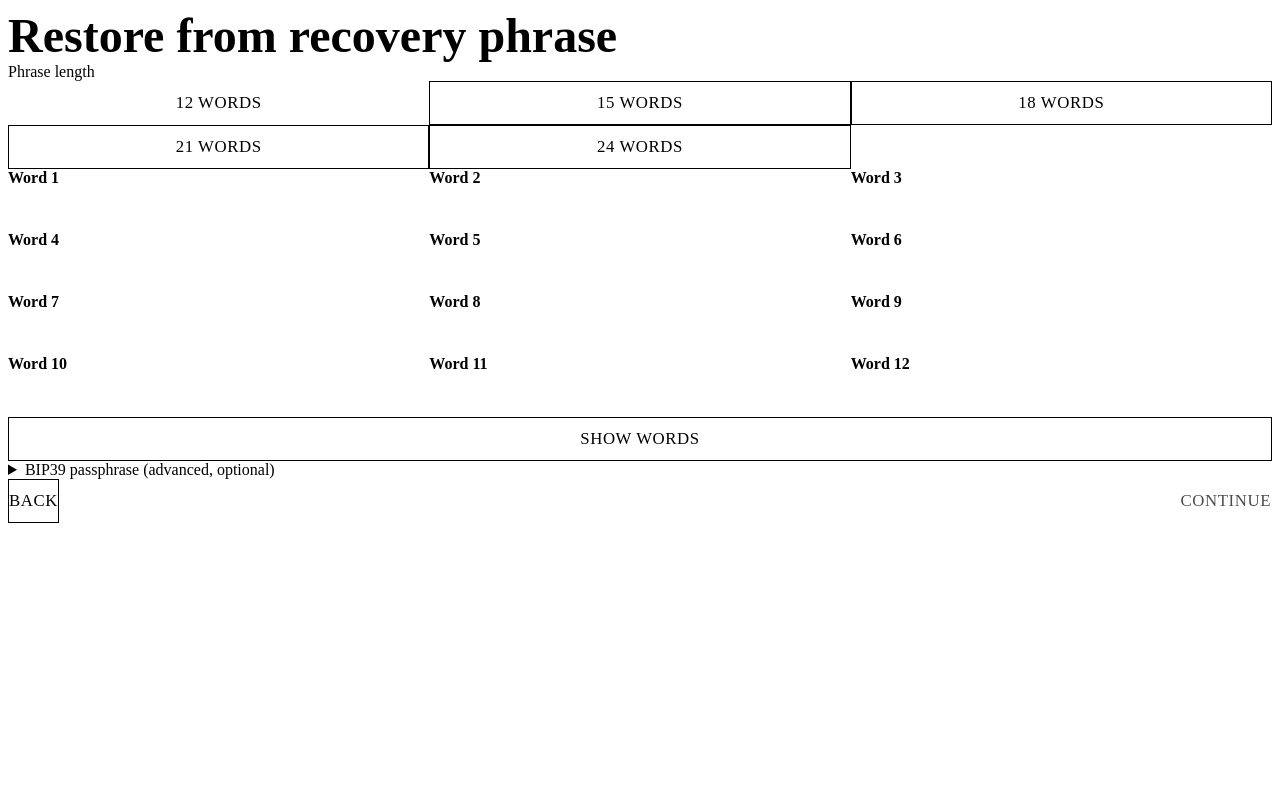
Scenario: RestoreFlow phrase paste › does not invite an incomplete password submission after a valid phrase
In the password field labelled "Word 1": (219, 209) [8,187,429,231], type "pitch food above path indicate infant ride bacon neither stable raise hobby tonight tomorrow human limb wait cigar now second trophy one canvas zone"
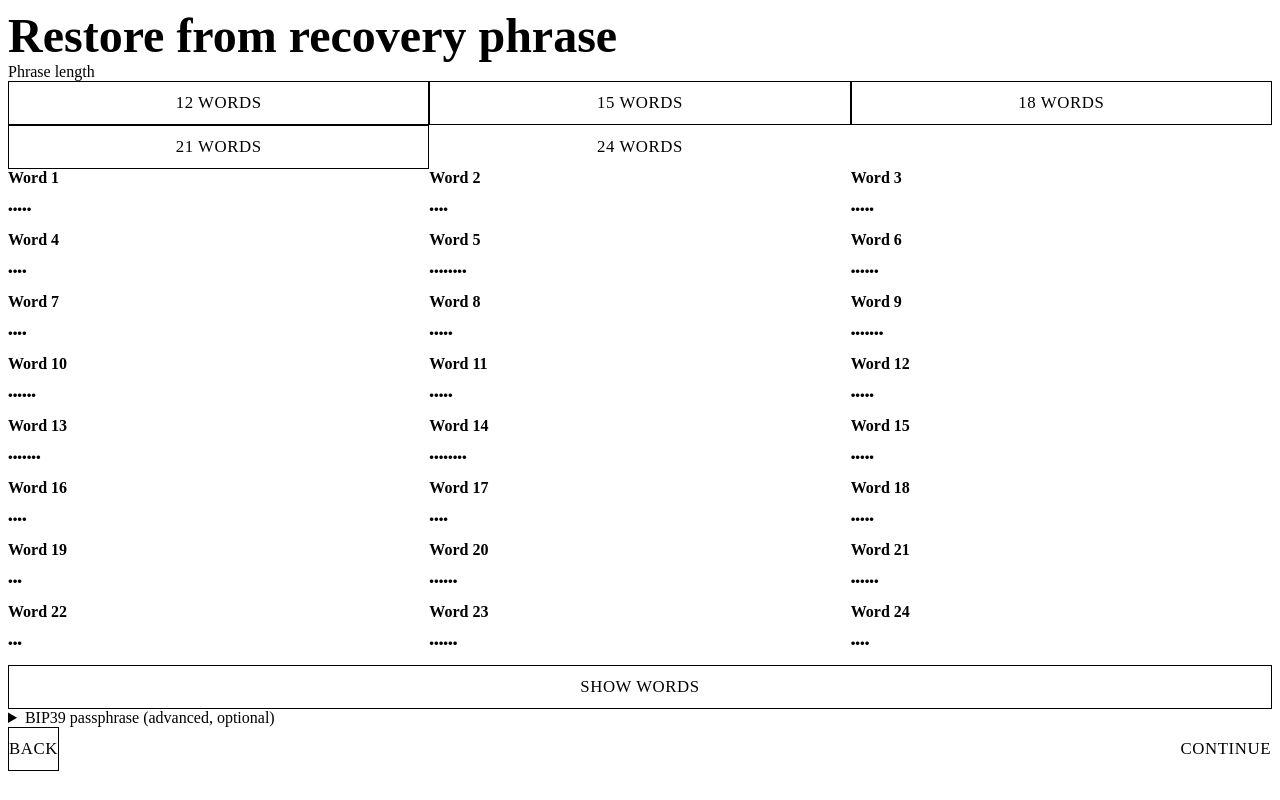
Click the button "Continue": click(1226, 749) [1180,727,1272,771]
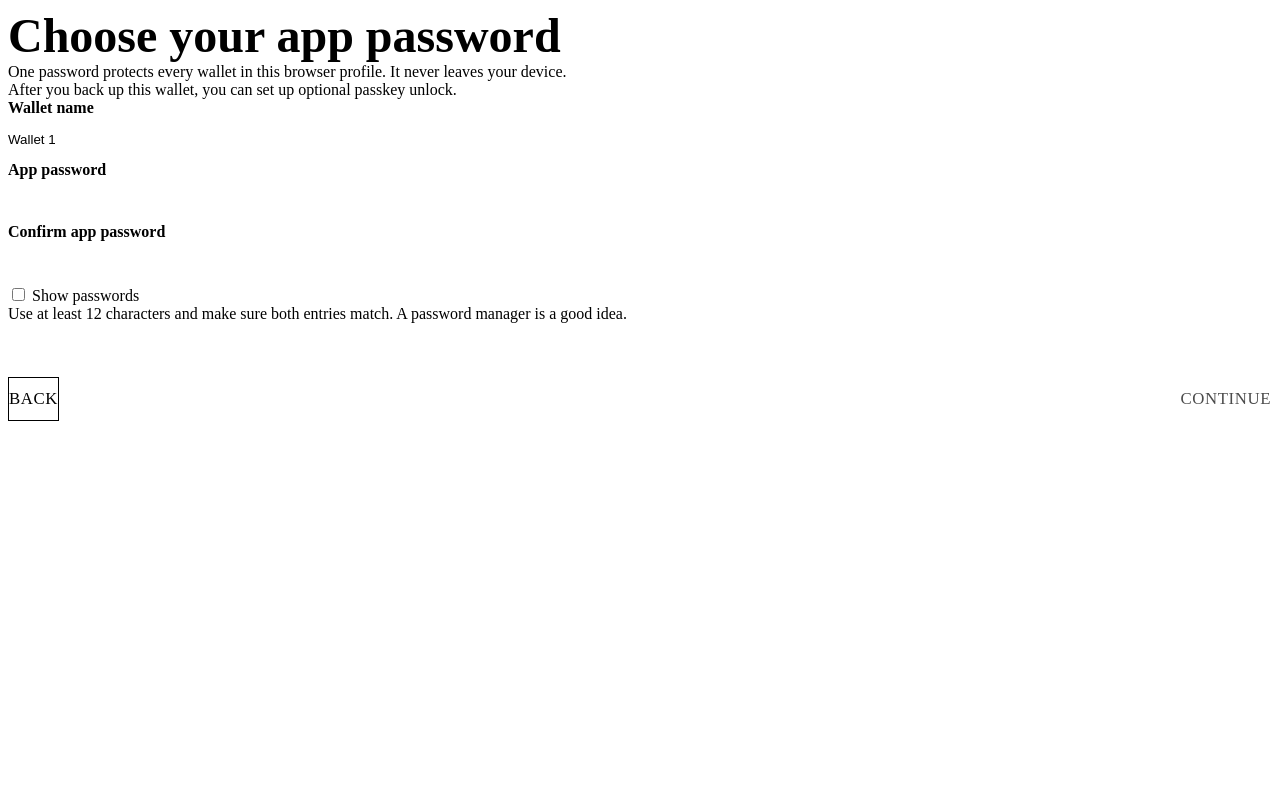
Result: the button "Continue" is disabled at [1180,377,1272,421]
Result: the text "at least 12 characters" is shown at [8,305,627,322]
In the password field labelled "App password": (640, 201) [8,179,1272,223], type "a-long-password"
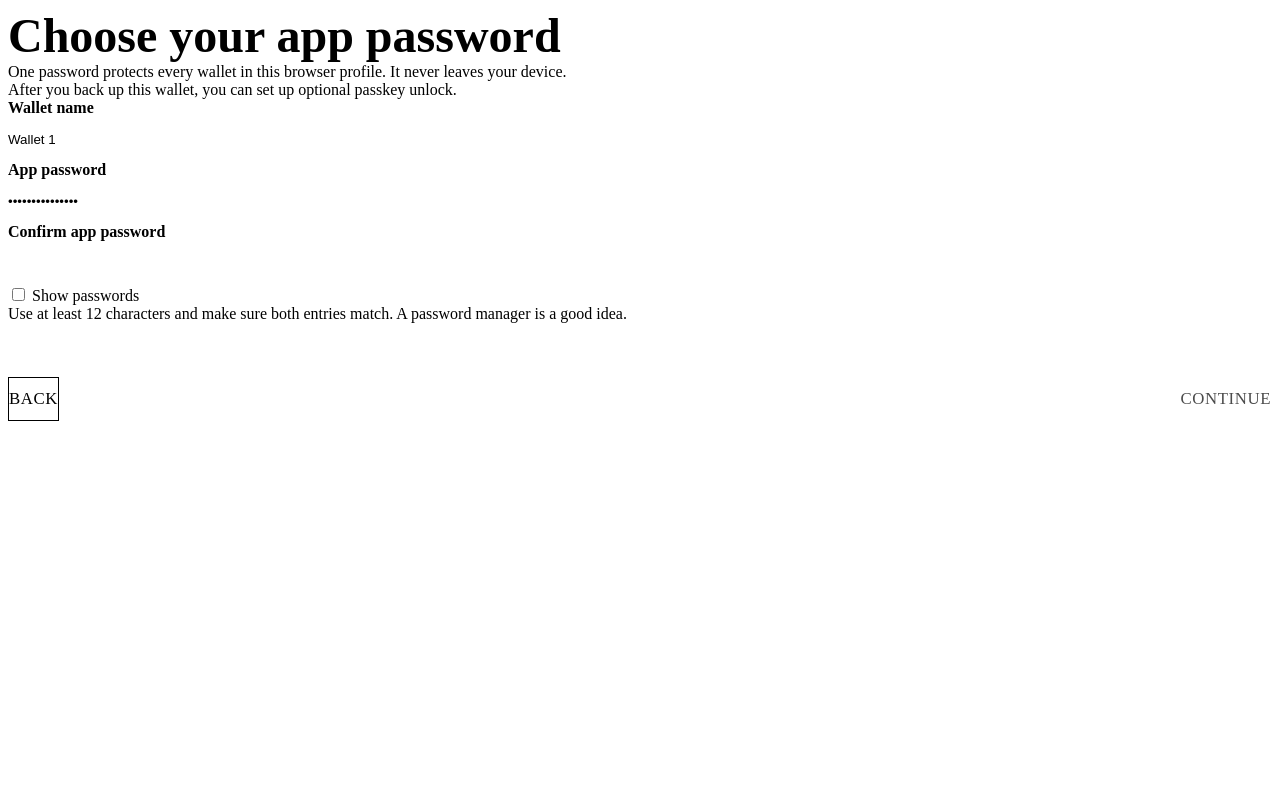
In the password field labelled "Confirm app password": (640, 263) [8,241,1272,285], type "a-long-password"
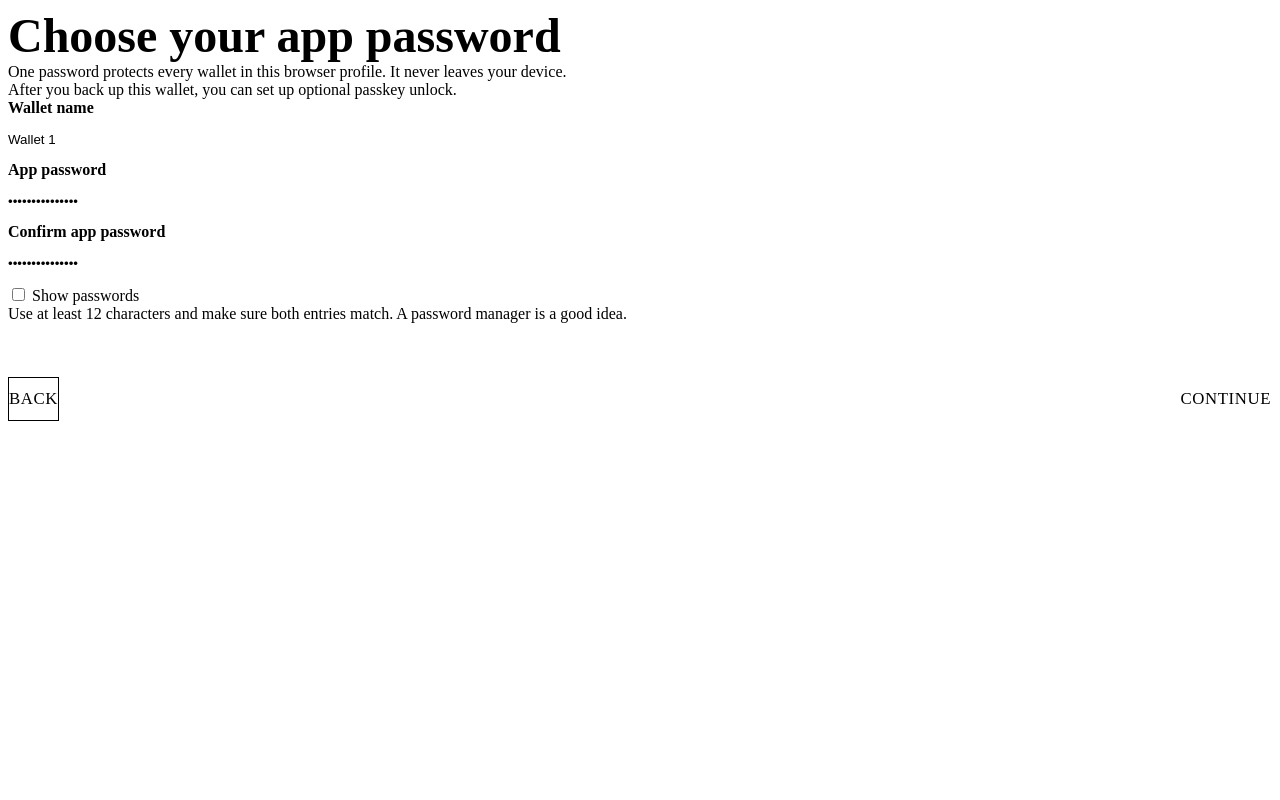
Result: the button "Continue" is enabled at [1180,377,1272,421]
